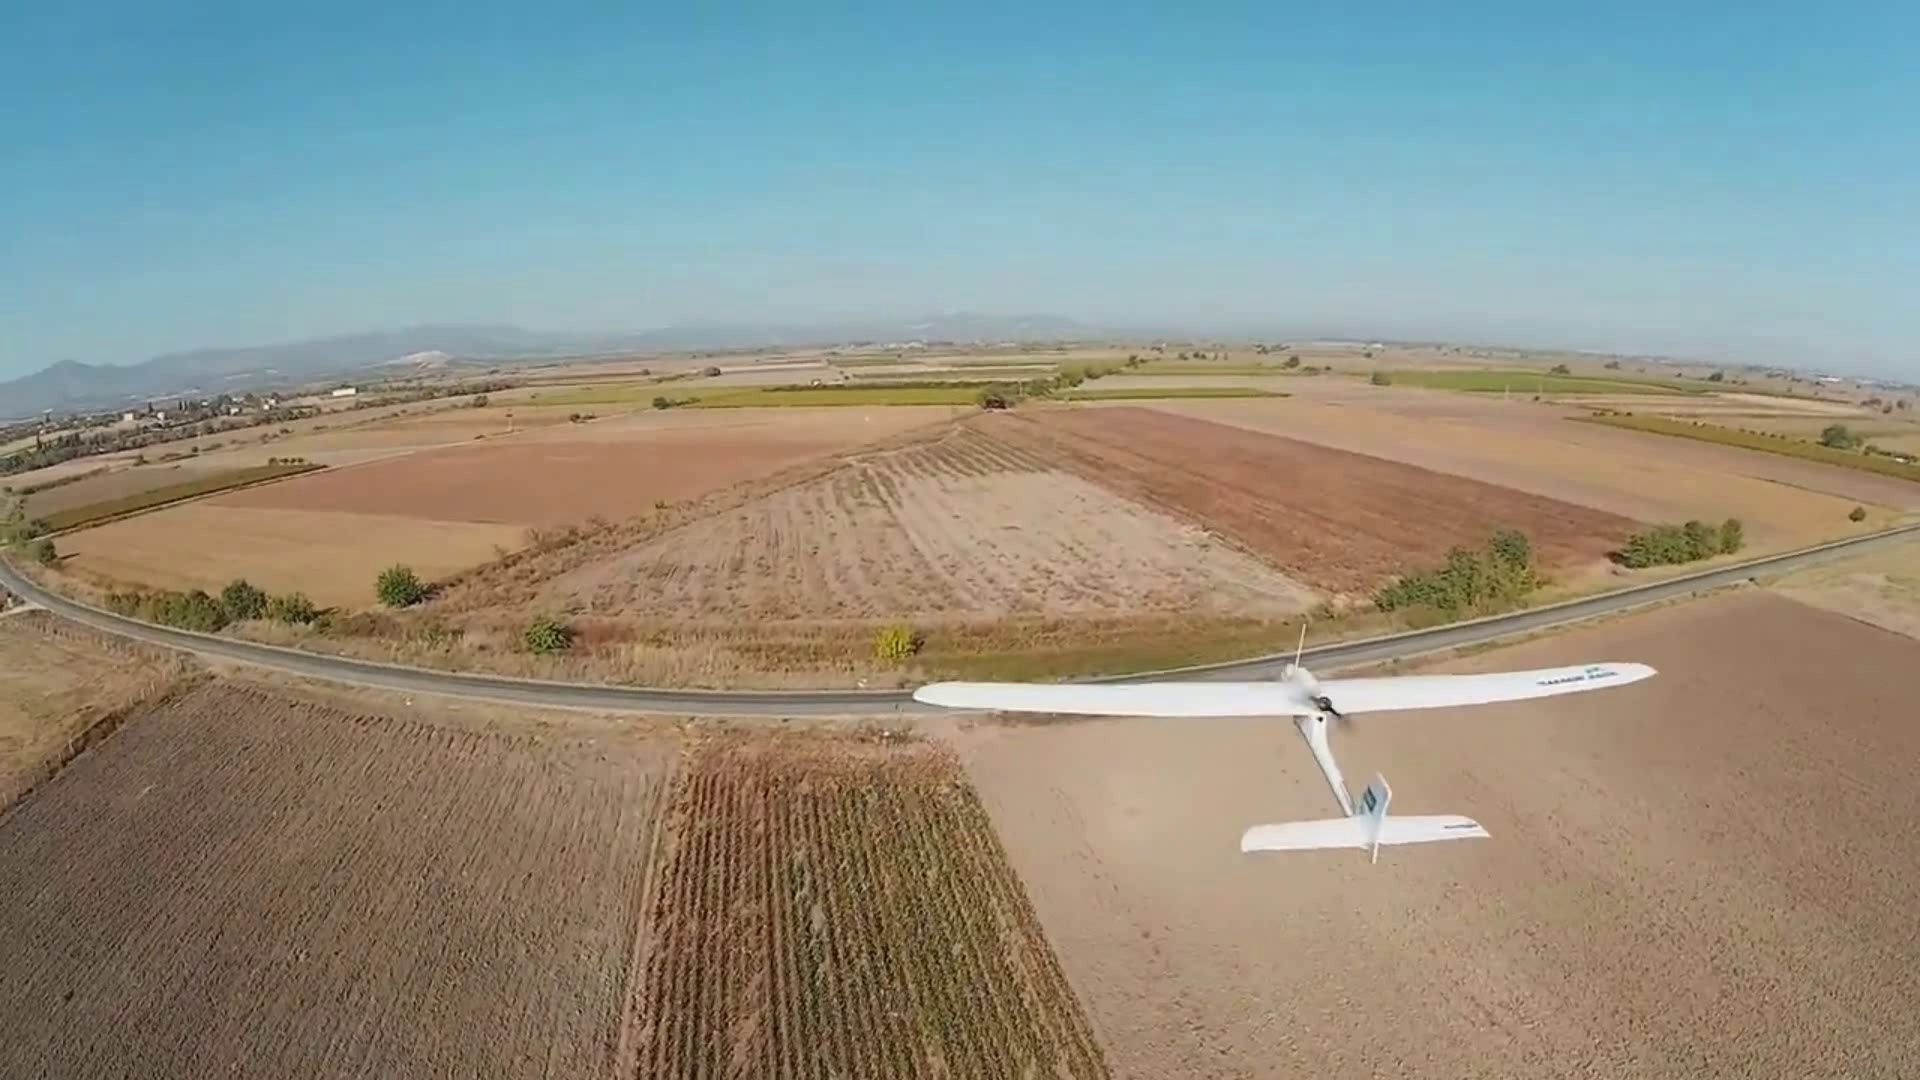airplane: (906, 518, 1917, 843), (909, 636, 1655, 844)
